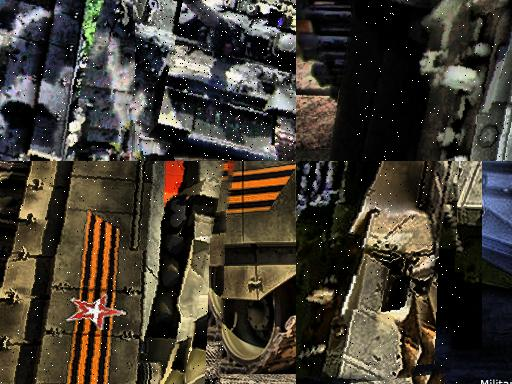tanks: (1, 162, 230, 384), (297, 162, 459, 384), (137, 1, 297, 162), (359, 1, 512, 162), (1, 1, 140, 162)
